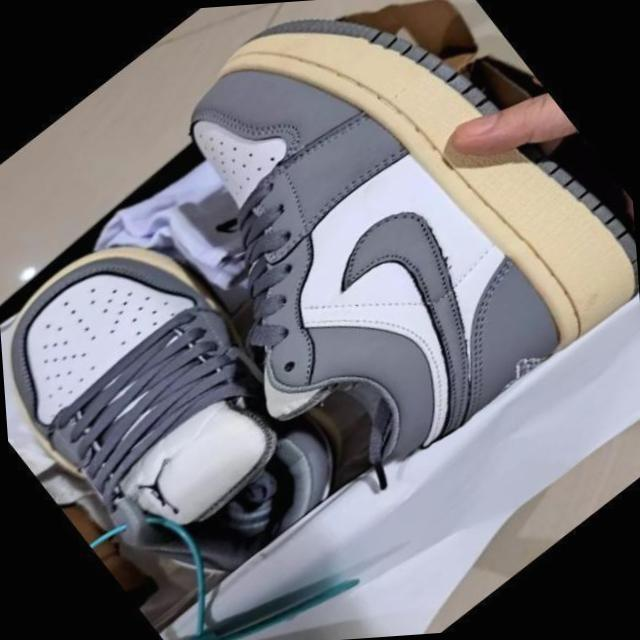nike_fake_jordan: (59, 0, 640, 543), (0, 180, 378, 639)
